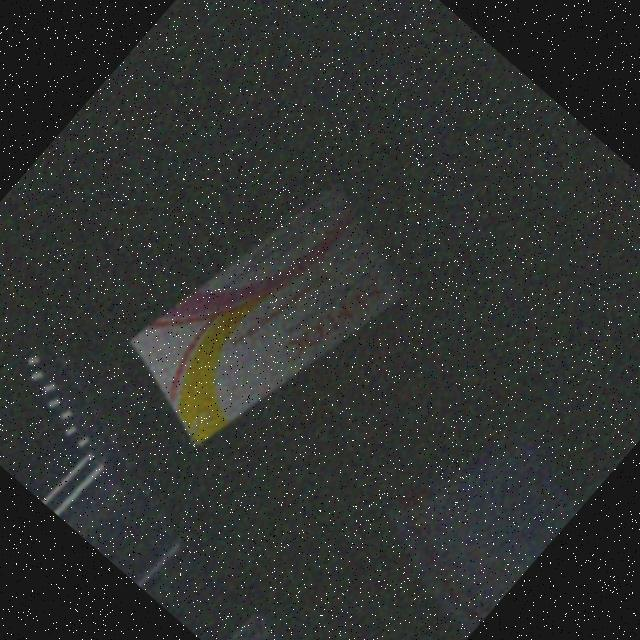medicine_name_detection: (107, 151, 431, 487)
